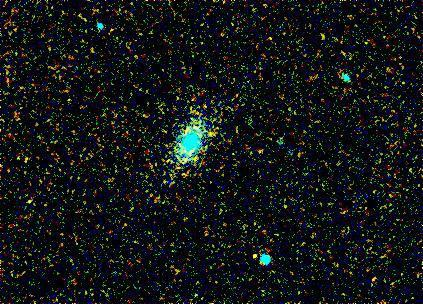star: (240, 243, 270, 273)
